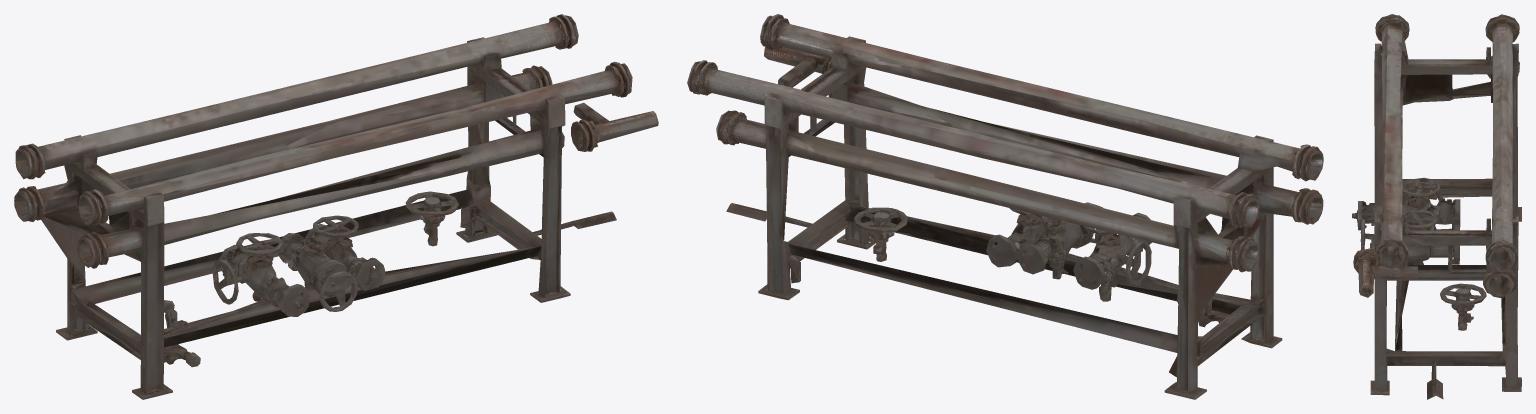
The model's file is pipe_rack.glb.
The picture shows the model from 3 angles, left to right: view 1: azimuth 30°, elevation 25°; view 2: azimuth 150°, elevation 25°; view 3: azimuth 270°, elevation 25°; orthographic projection. The views are drawn at different scales.
Parts seen in each view (by area): view 1: Mesh_0; view 2: Mesh_0; view 3: Mesh_0.
Part boxes in pixels (bbox=[...]): Mesh_0: bbox=[14, 14, 658, 399]; Mesh_0: bbox=[687, 14, 1323, 399]; Mesh_0: bbox=[1352, 14, 1521, 399].
Size of the model in its own units: 1.9 by 0.6837 by 0.5773.
Materials: 1 (1 with a texture image).
